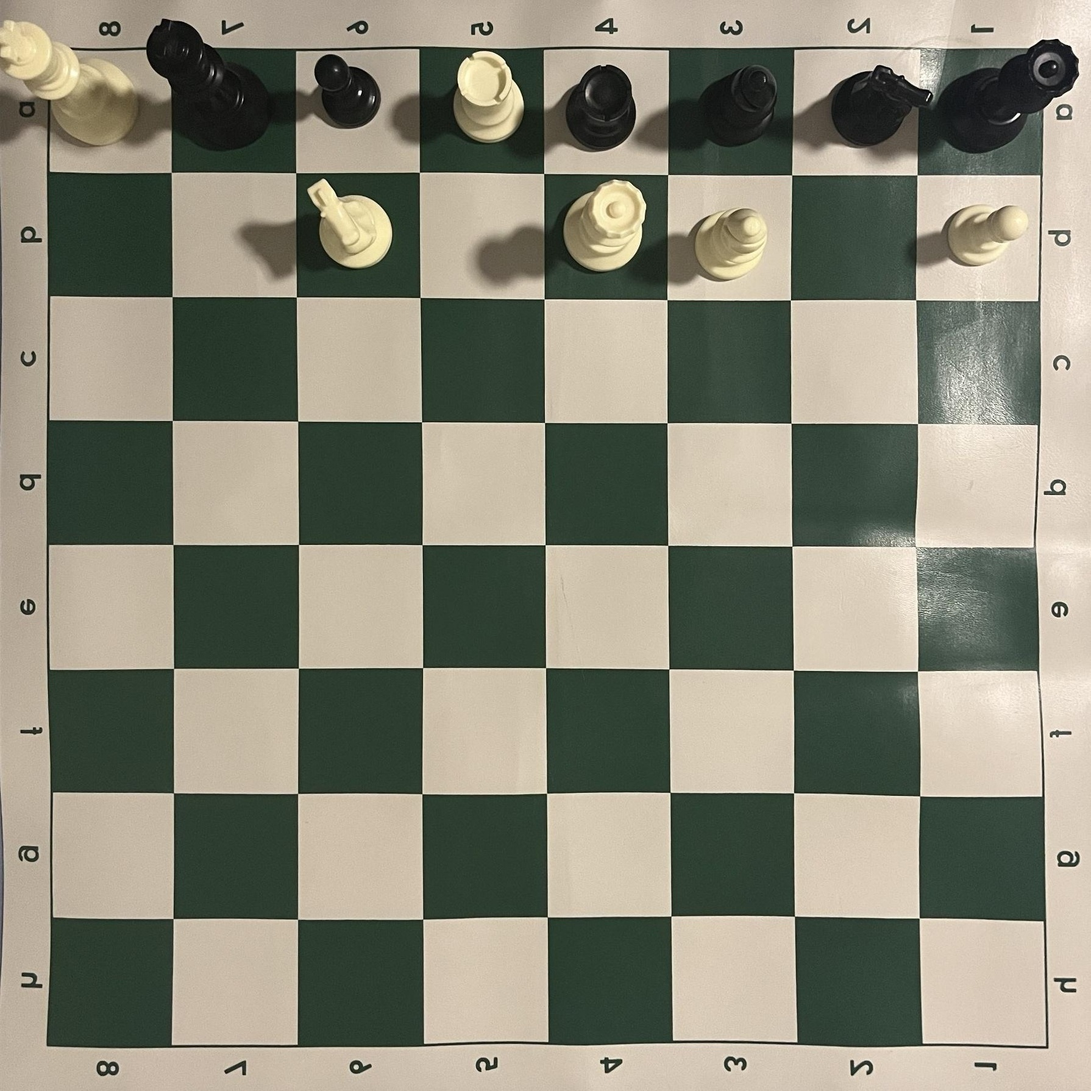black_bishop: (689, 64, 778, 149)
black_king: (146, 18, 271, 151)
black_knight: (830, 63, 933, 149)
black_pawn: (314, 54, 382, 130)
black_queen: (933, 38, 1080, 154)
black_rook: (564, 63, 637, 152)
white_bishop: (693, 207, 769, 282)
white_king: (0, 19, 138, 147)
white_knight: (307, 178, 395, 270)
white_pawn: (945, 203, 1028, 267)
white_queen: (562, 179, 647, 274)
white_rook: (452, 50, 526, 144)
